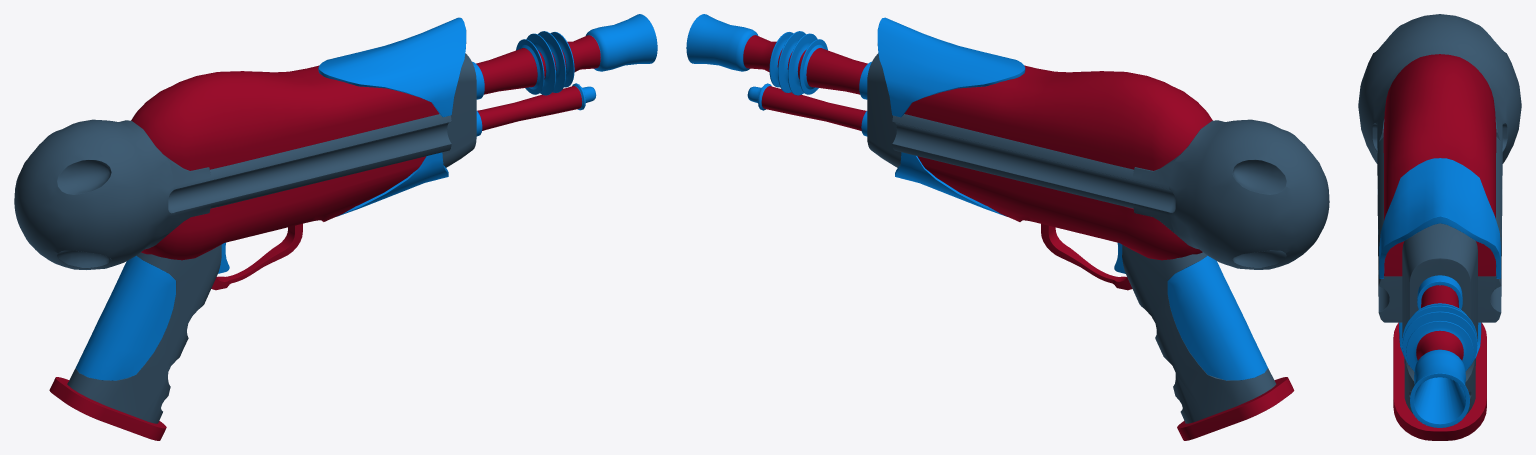
The model's file is ToyGun (1).fbx.
The picture shows the model from 3 angles, left to right: view 1: azimuth 30°, elevation 25°; view 2: azimuth 150°, elevation 25°; view 3: azimuth 270°, elevation 25°; orthographic projection. The views are drawn at different scales.
Parts seen in each view (by area): view 1: ToyGun; view 2: ToyGun; view 3: ToyGun.
Boxes of the visible parts, x1,y1,x2,y2 form: ToyGun: [14, 14, 657, 440]; ToyGun: [686, 14, 1329, 440]; ToyGun: [1358, 14, 1521, 440].
Size of the model in its own units: 142 by 74.62 by 27.15.
